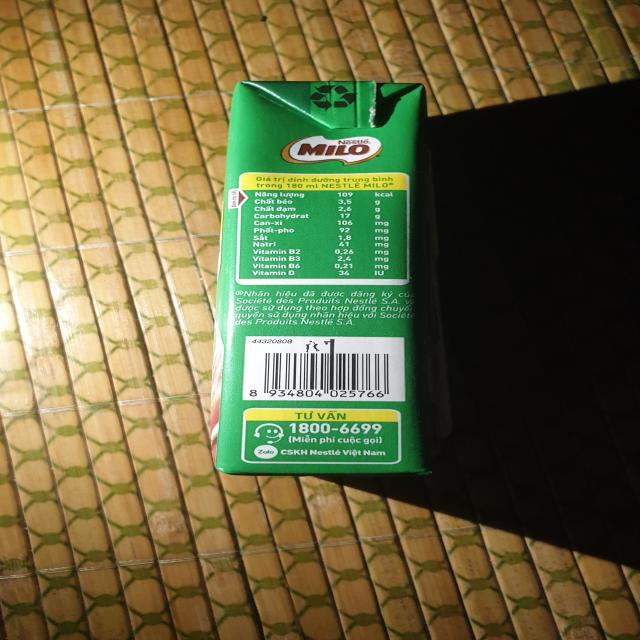Milo: (224, 81, 430, 478)
